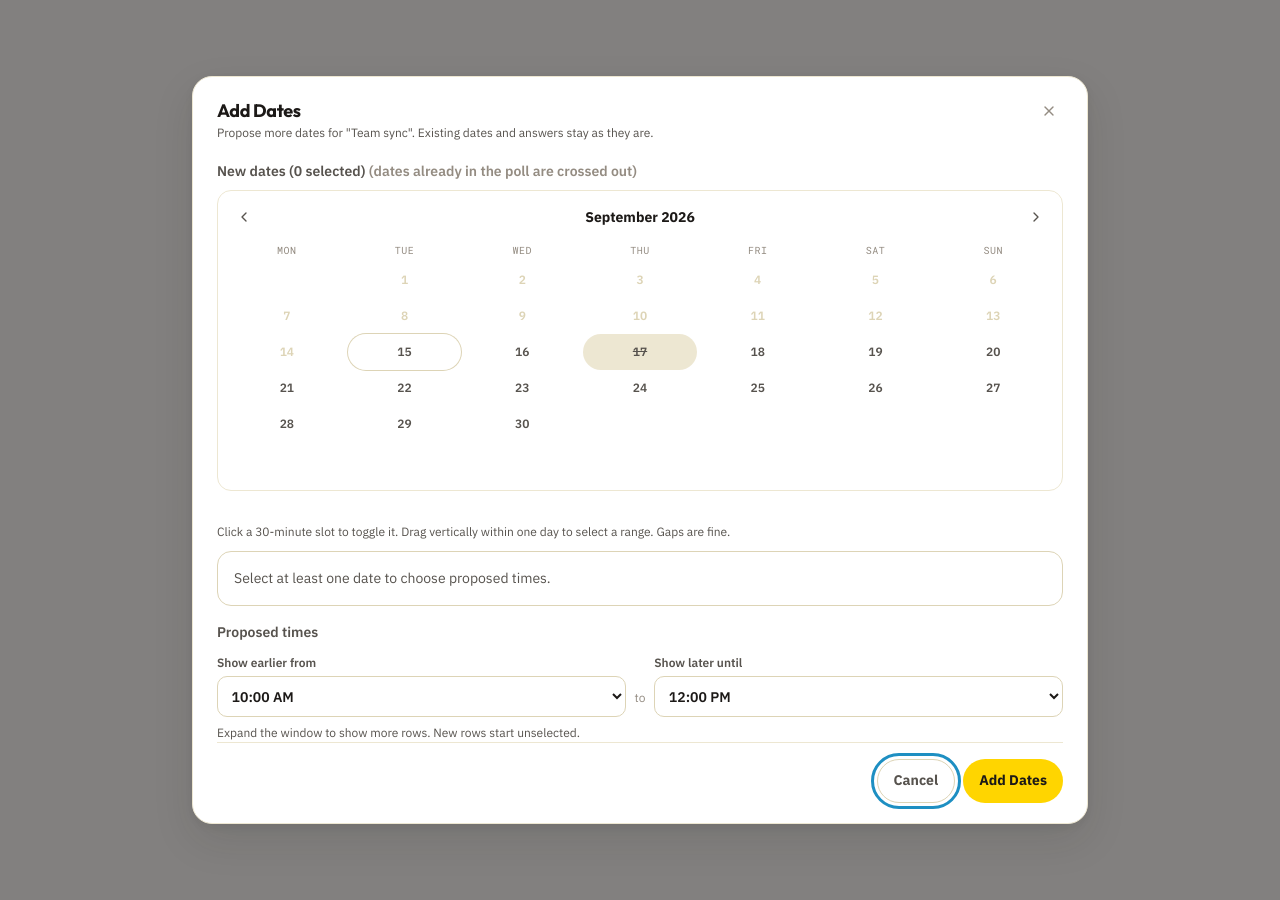
ExtendPollModal › keeps the 60-date limit
The image size is (1280, 900).
Click the button "18" at (758, 352), box [701,334,814,370]
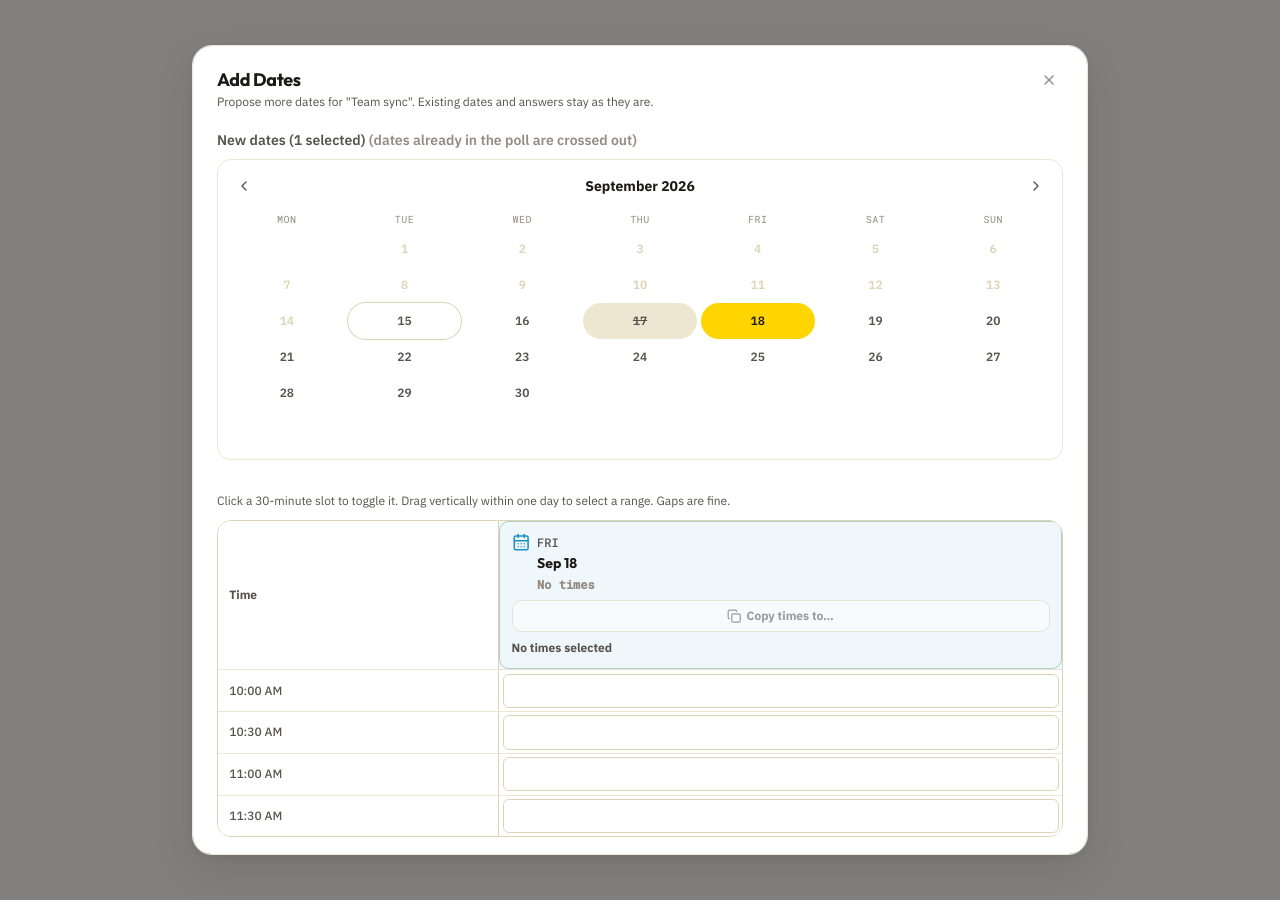
Click the button named "Friday, September 18, 10:00 AM – 10:30 AM: not proposed" at (781, 691), box [502,674,1059,708]
(page scrolled)
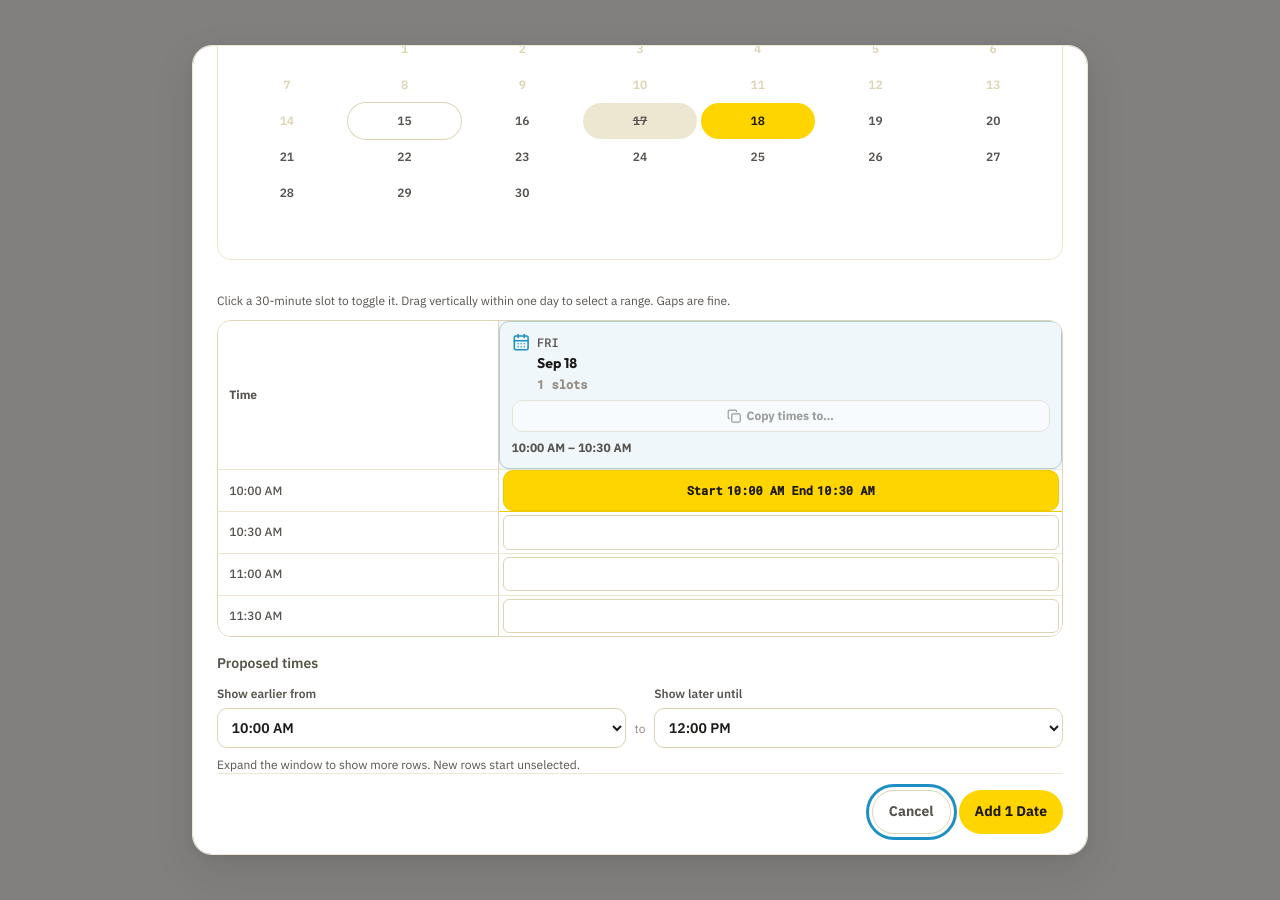
Click the button with id "add-dates-submit-btn" at (1011, 812), box [959,790,1063,834]
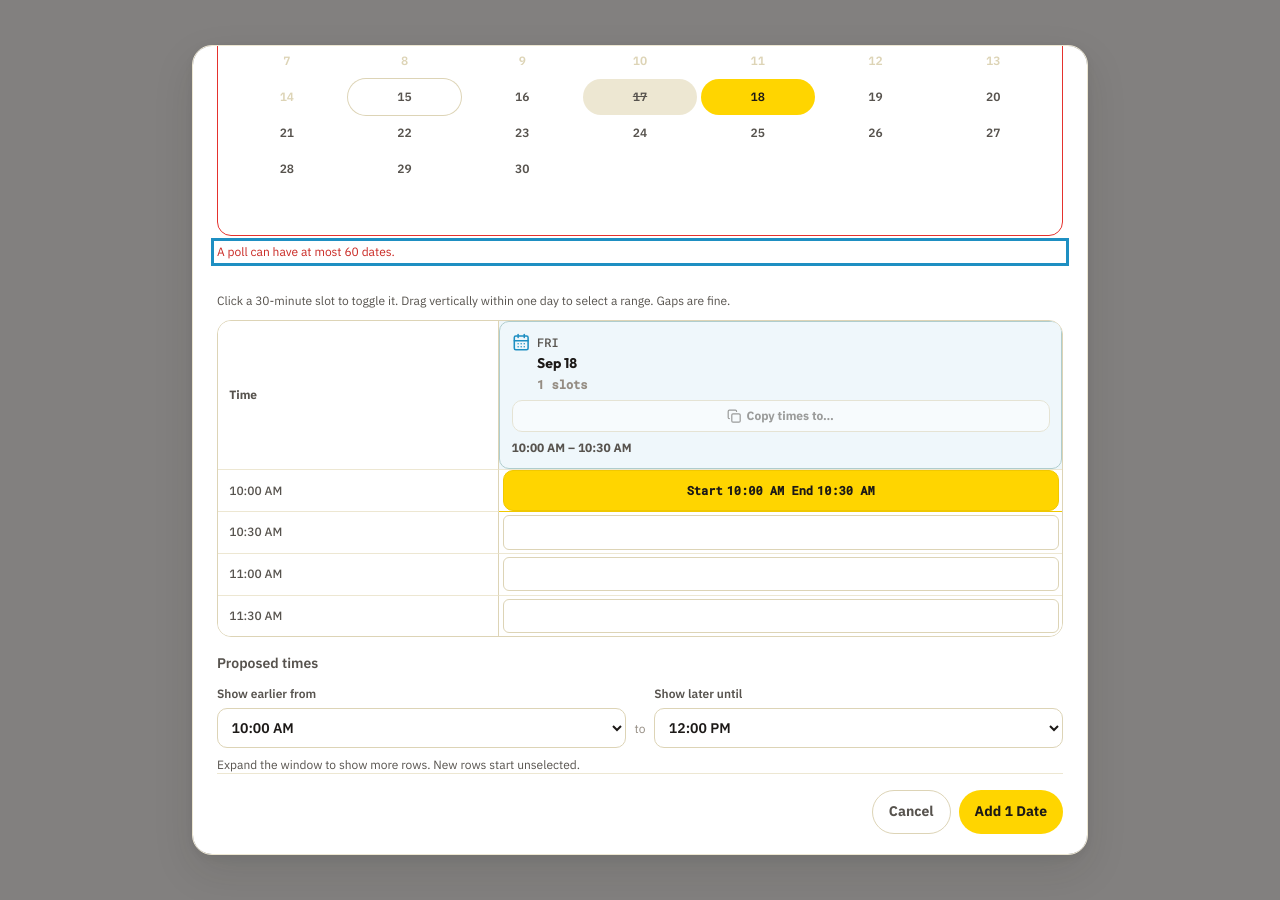
Expected: the text "A poll can have at most 60 dates." is shown, [217,244,395,259]
